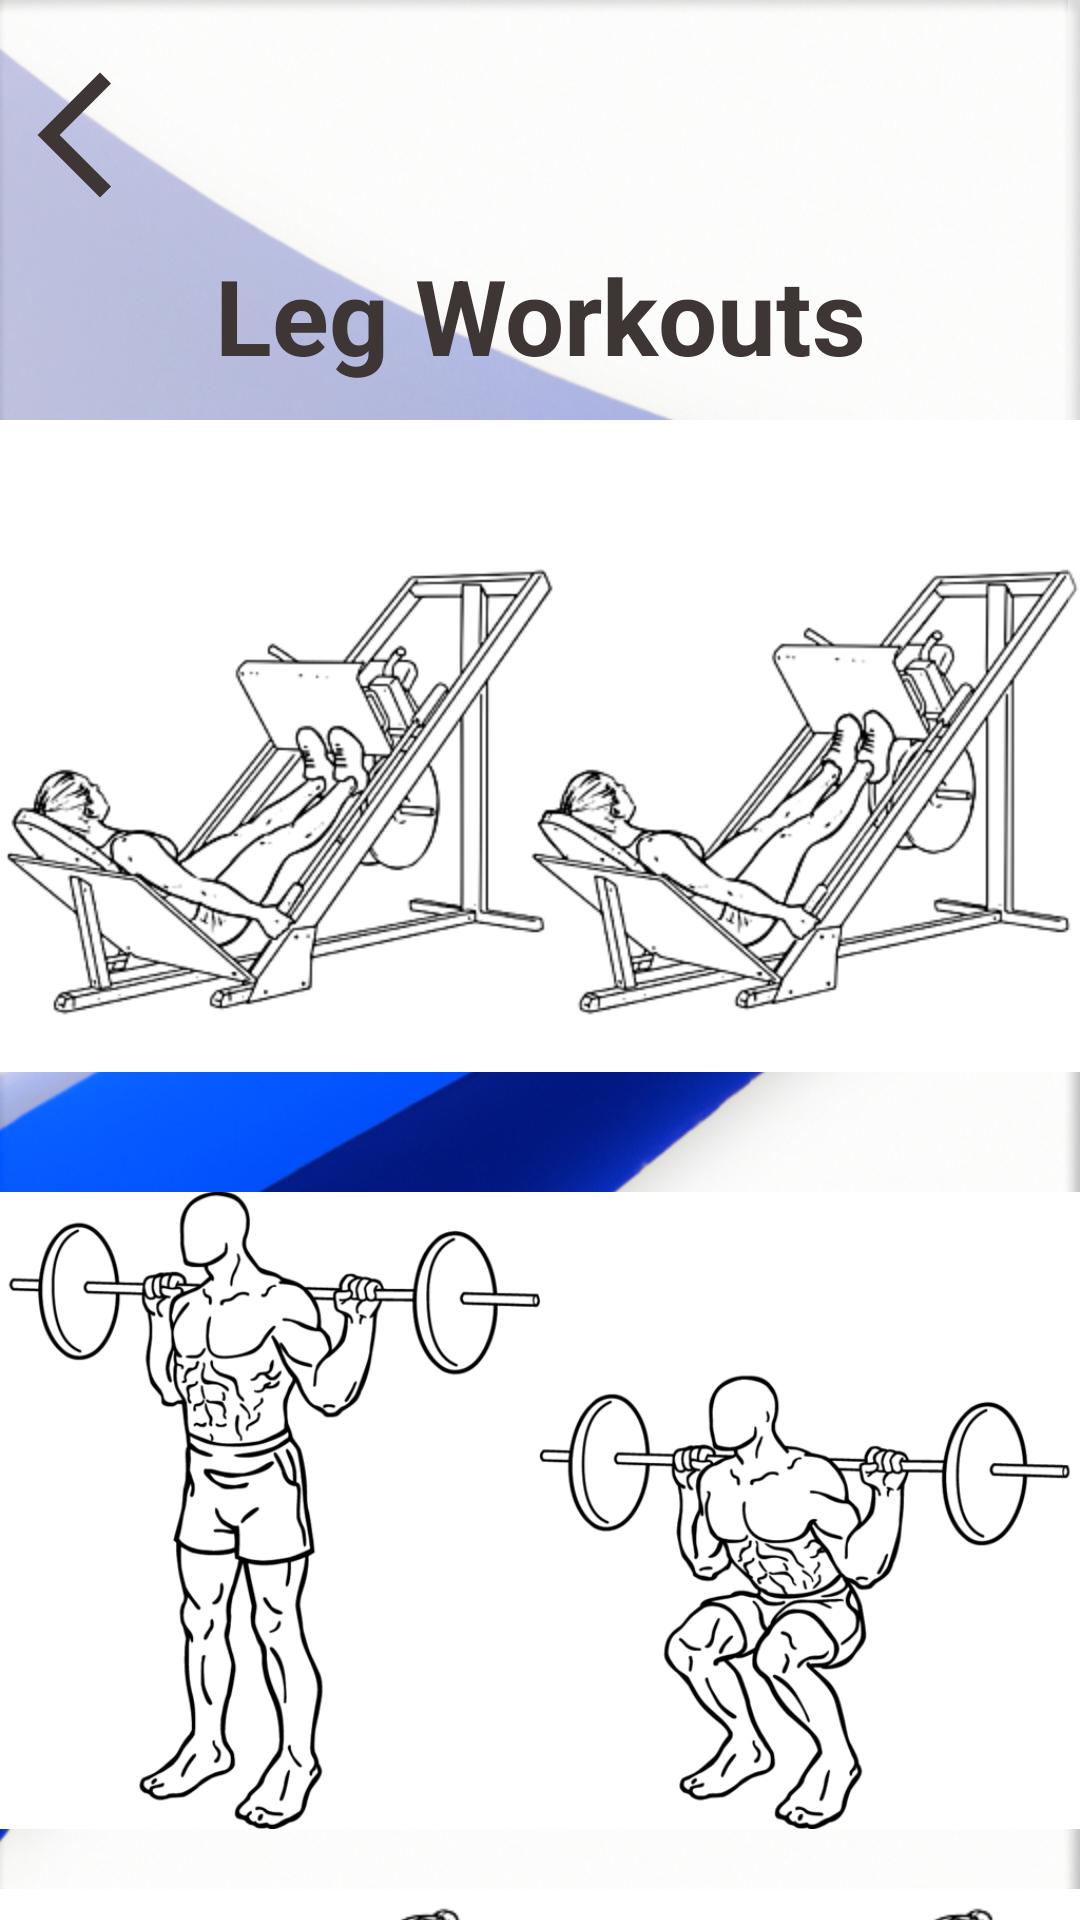

Point at icon controls on the screen. Image size 1080*1920, points as (x,y).
arrow back: (75,135)
